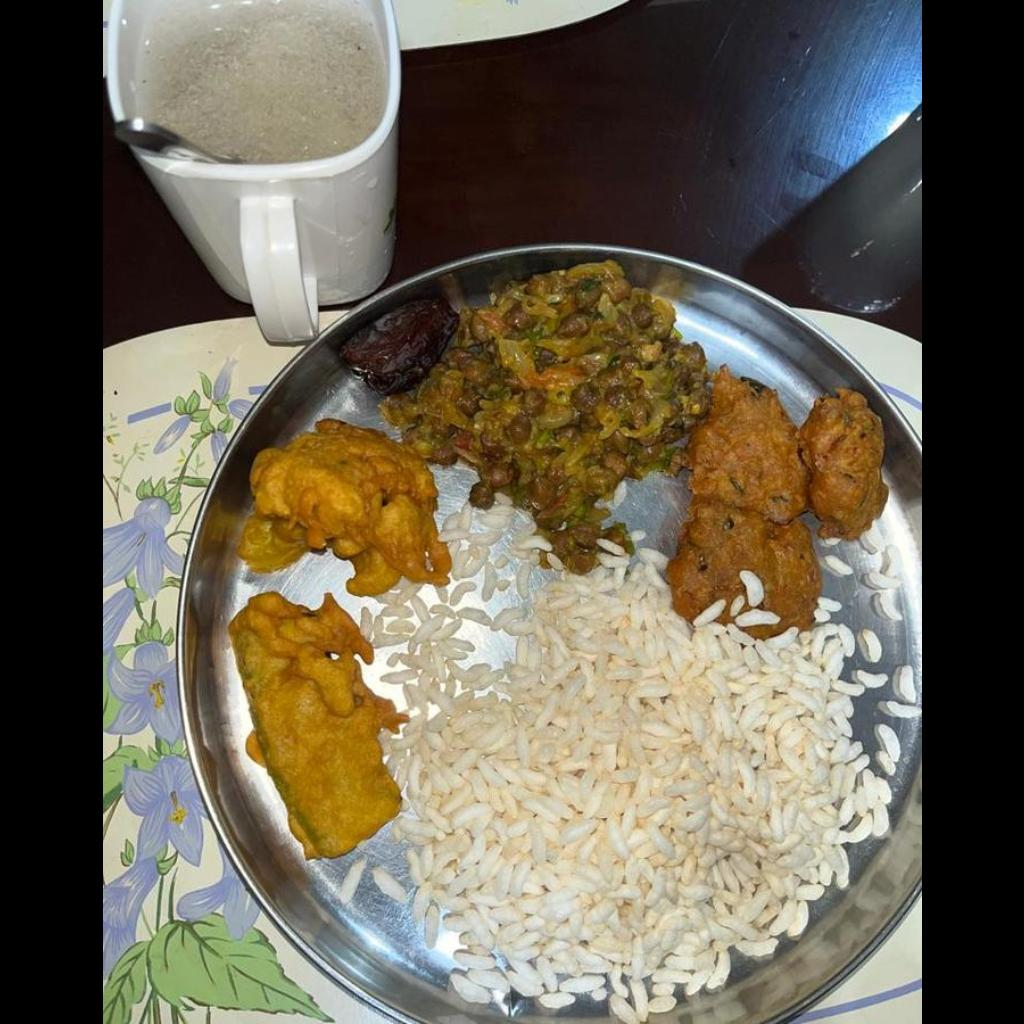beguni: (230, 580, 402, 862)
chola: (386, 261, 700, 551)
chop-alu: (246, 424, 447, 583)
juice: (133, 0, 383, 163)
peyaju: (659, 373, 884, 623)
puffed-rice: (389, 551, 887, 1023)
